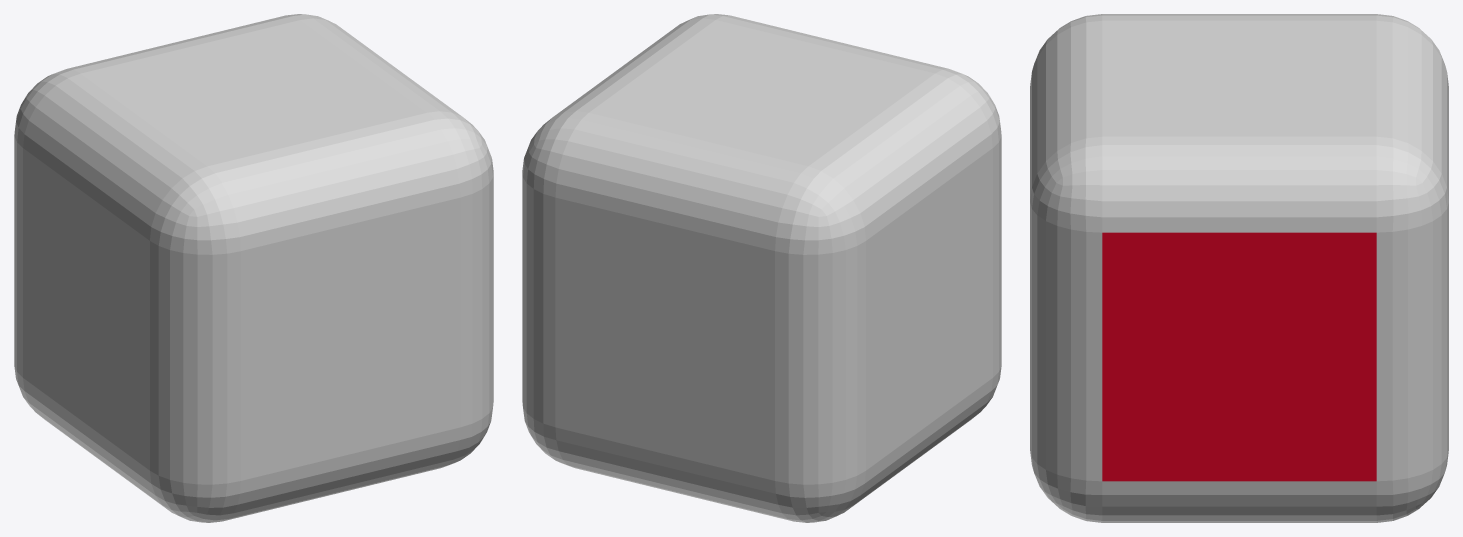
File: demo.gltf
3 renders of one model, left to right at view 1: azimuth 30°, elevation 25°; view 2: azimuth 150°, elevation 25°; view 3: azimuth 270°, elevation 25°, orthographic. The views are drawn at different scales.
Visible parts, largest first — view 1: Cube; view 2: Cube; view 3: Cube.
Part boxes in pixels (bbox=[...]): Cube: bbox=[14, 14, 493, 522]; Cube: bbox=[522, 14, 1001, 522]; Cube: bbox=[1030, 14, 1448, 522].
Size of the model in its own units: 2 by 2 by 2.
